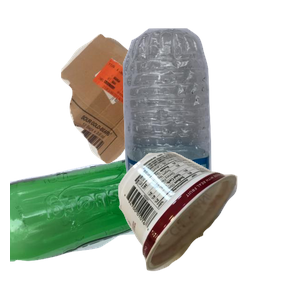cardboard: (58, 31, 222, 188)
glass: (10, 149, 203, 300)
plastic: (111, 26, 300, 206)
trash: (116, 149, 300, 300)
